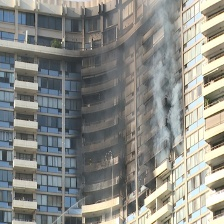smoke: (144, 5, 191, 169)
